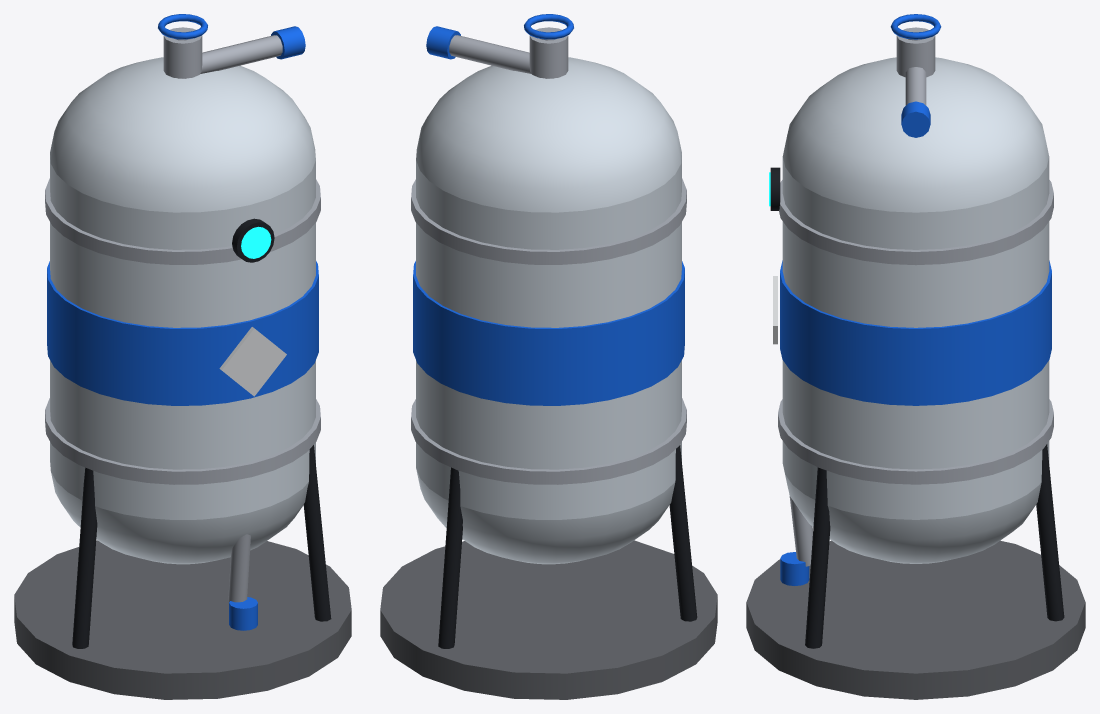
File: tank_oxygen.glb
The picture shows the model from 3 angles, left to right: view 1: azimuth 30°, elevation 25°; view 2: azimuth 150°, elevation 25°; view 3: azimuth 270°, elevation 25°; orthographic projection.
Parts seen in each view (by area): view 1: TNK_Body; view 2: TNK_Body; view 3: TNK_Body.
Part boxes in pixels (x1,y1,x2,y2): TNK_Body: (14, 14, 351, 699); TNK_Body: (380, 14, 717, 699); TNK_Body: (746, 14, 1085, 699).
Size of the model in its own units: 1.4 by 2.75 by 1.4.
